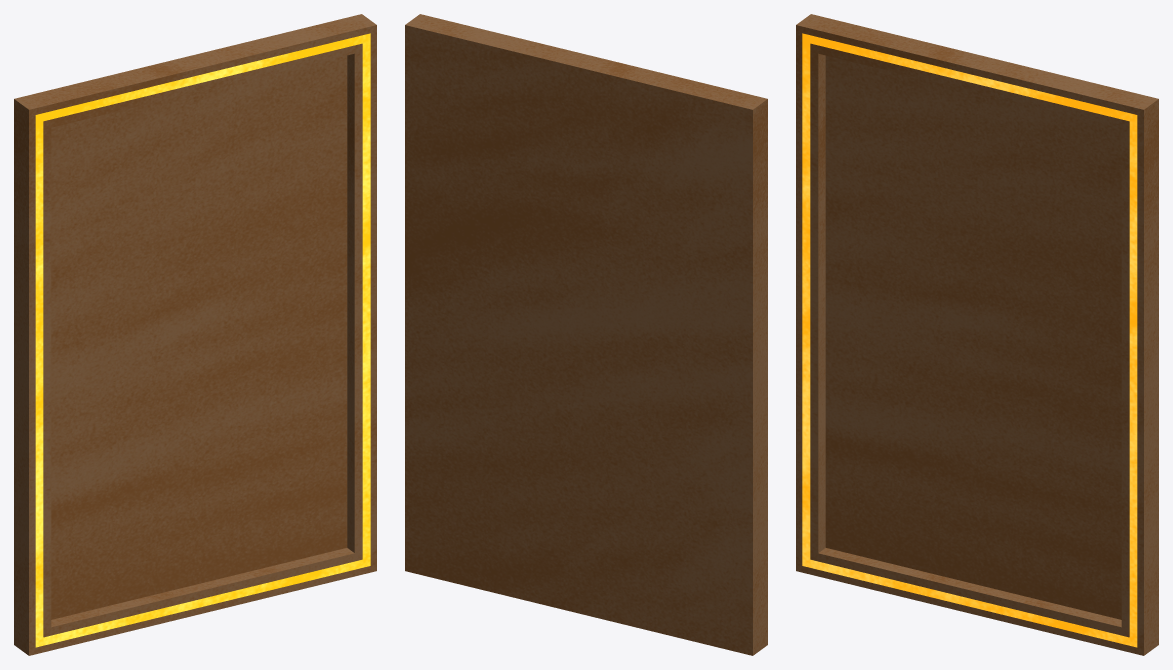
File: CartaLaranja.fbx
3 renders of one model, left to right at view 1: azimuth 30°, elevation 25°; view 2: azimuth 150°, elevation 25°; view 3: azimuth 330°, elevation 25°, orthographic.
Parts seen in each view (by area): view 1: CartaLaranja; view 2: CartaLaranja; view 3: CartaLaranja.
Boxes of the visible parts, <box> form: CartaLaranja: <box>14,14,376,655</box>; CartaLaranja: <box>405,14,767,655</box>; CartaLaranja: <box>796,14,1158,655</box>.
Bounding box in the file's own units: 200 × 300 × 15.
